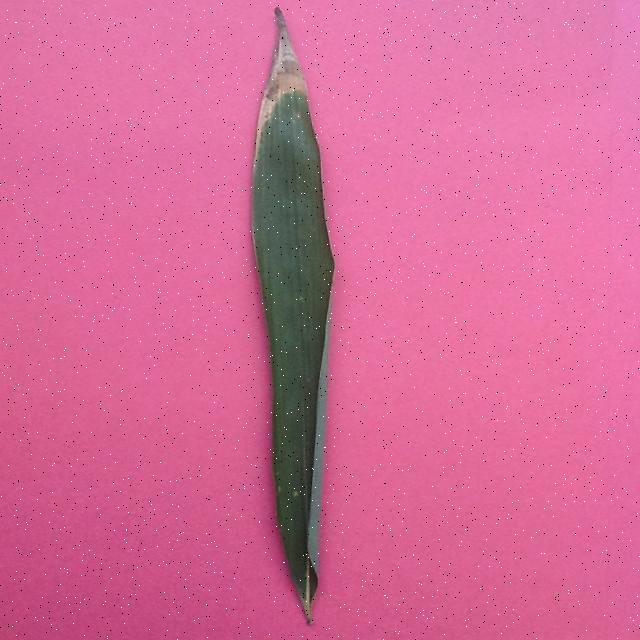foliage: (246, 5, 342, 627)
